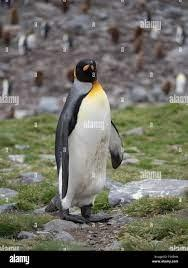king: (47, 54, 133, 229)
